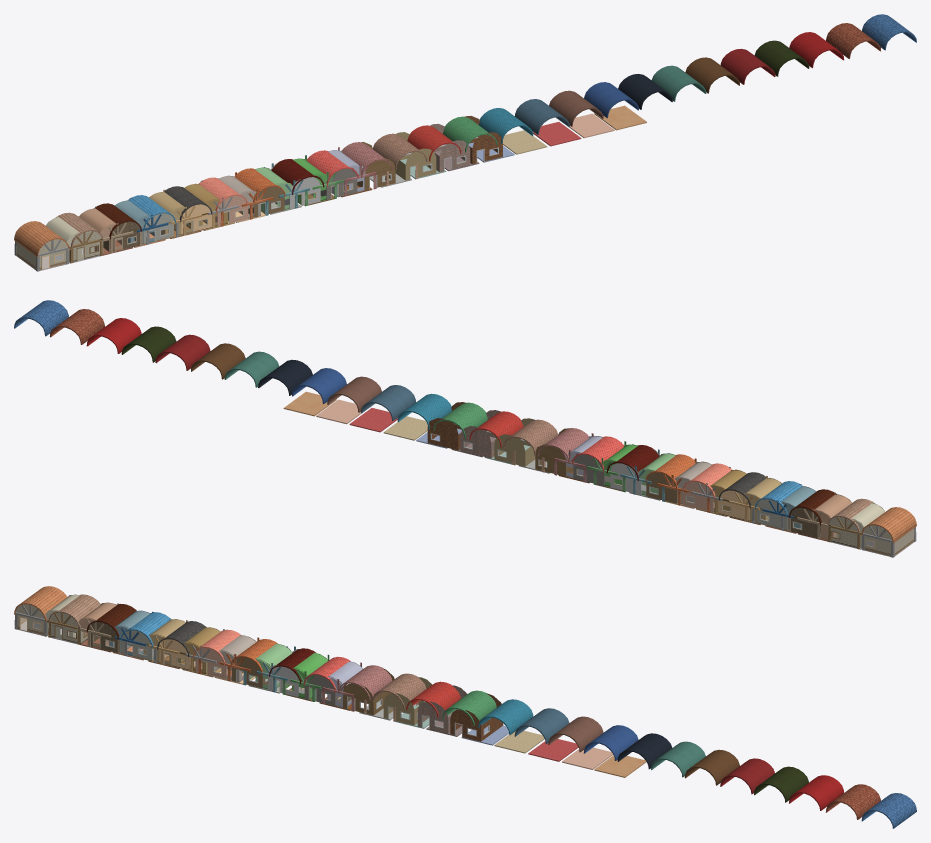
Rendered from House_008_Custom.fbx.
3 renders of one model, top to bottom at view 1: azimuth 30°, elevation 25°; view 2: azimuth 150°, elevation 25°; view 3: azimuth 330°, elevation 25°, orthographic.
Parts seen in each view (by area): view 1: House_008_roof_v24, House_008_roof_v15, House_008_roof_v25, House_008_roof_v1, House_008_roof_v22, House_008_roof_v18, House_008_roof_v23, House_008_OutSideWalls_v11, House_008_roof_v16, House_008_roof_v20, House_008_roof_v21, House_008_roof_v17 (+32 smaller); view 2: House_008_OutSideWalls_v11, House_008_roof_v24, House_008_roof_v15, House_008_roof_v25, House_008_roof_v1, House_008_roof_v22, House_008_OutSideWalls_v12, House_008_roof_v18, House_008_roof_v23, House_008_roof_v16, House_008_roof_v20, House_008_roof_v21 (+29 smaller); view 3: House_008_OutSideWalls_v13, House_008_roof_v25, House_008_roof_v23, House_008_roof_v24, House_008_roof_v14, House_008_roof_v16, House_008_roof_v20, House_008_roof_v21, House_008_roof_v18, House_008_roof_v15, House_008_roof_v22, House_008_roof_v19 (+33 smaller).
Part boxes in pixels (box(x1,y1,x2,y2)): House_008_roof_v24: box(826, 23, 880, 58); House_008_roof_v15: box(515, 99, 569, 134); House_008_roof_v25: box(862, 14, 916, 50); House_008_roof_v1: box(14, 221, 69, 257); House_008_roof_v22: box(720, 48, 775, 84); House_008_roof_v18: box(584, 82, 638, 118); House_008_roof_v23: box(789, 32, 844, 68); House_008_OutSideWalls_v11: box(395, 132, 436, 180); House_008_roof_v16: box(549, 90, 603, 126); House_008_roof_v20: box(685, 57, 739, 93); House_008_roof_v21: box(754, 40, 809, 76); House_008_roof_v17: box(618, 74, 672, 109); House_008_OutSideWalls_v11: box(494, 418, 535, 466); House_008_roof_v24: box(50, 309, 104, 344); House_008_roof_v15: box(361, 385, 415, 420); House_008_roof_v25: box(14, 300, 68, 336); House_008_roof_v1: box(861, 507, 916, 542); House_008_roof_v22: box(155, 334, 210, 370); House_008_OutSideWalls_v12: box(460, 410, 501, 458); House_008_roof_v18: box(292, 368, 346, 403); House_008_roof_v23: box(86, 318, 141, 353); House_008_roof_v16: box(327, 376, 381, 412); House_008_roof_v20: box(191, 343, 245, 379); House_008_roof_v21: box(121, 326, 176, 362); House_008_OutSideWalls_v13: box(450, 693, 503, 741); House_008_roof_v25: box(861, 793, 916, 828); House_008_roof_v23: box(789, 775, 843, 810); House_008_roof_v24: box(825, 784, 880, 819); House_008_roof_v14: box(478, 699, 533, 735); House_008_roof_v16: box(548, 716, 603, 752); House_008_roof_v20: box(684, 749, 739, 785); House_008_roof_v21: box(754, 766, 808, 802); House_008_roof_v18: box(583, 725, 638, 760); House_008_roof_v15: box(514, 708, 569, 743); House_008_roof_v22: box(720, 758, 774, 794); House_008_roof_v19: box(651, 741, 705, 777).
Size of the model in its own units: 9.02 by 0.2907 by 0.4149.
